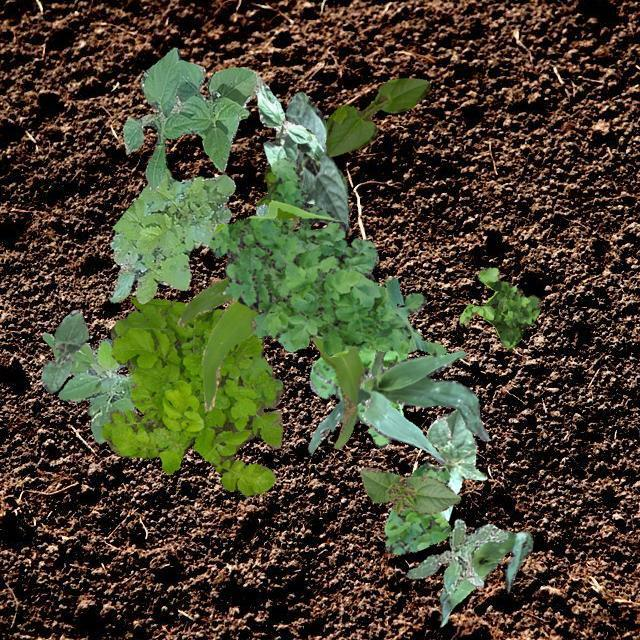crop: (176, 217, 364, 448), (306, 348, 488, 462), (122, 46, 260, 190), (42, 332, 134, 442), (438, 530, 532, 624), (284, 90, 349, 224), (324, 76, 428, 156), (426, 408, 486, 520), (255, 80, 322, 166), (360, 467, 460, 512), (41, 309, 88, 392)
weed: (208, 156, 446, 356), (100, 296, 282, 497), (108, 168, 234, 302), (308, 346, 406, 446), (255, 108, 338, 225), (404, 518, 506, 594), (458, 266, 540, 350), (384, 458, 451, 554), (254, 202, 300, 245)
